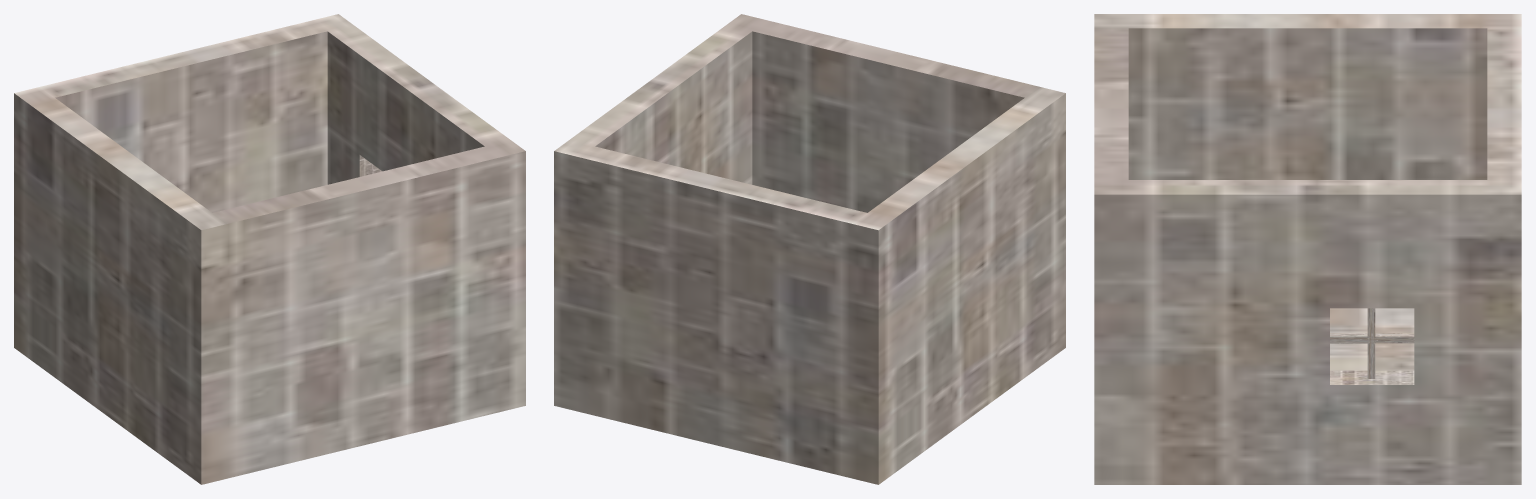
Rendered from Shop1.obj.
3 renders of one model, left to right at view 1: azimuth 30°, elevation 25°; view 2: azimuth 150°, elevation 25°; view 3: azimuth 270°, elevation 25°, orthographic. The views are drawn at different scales.
Visible parts, largest first — view 1: Cube; view 2: Cube; view 3: Cube, Cube.004, Cube.003.
Part boxes in pixels (x1=…): Cube: x1=14, y1=14, x2=525, y2=484; Cube: x1=554, y1=14, x2=1065, y2=484; Cube: x1=1094, y1=14, x2=1521, y2=484; Cube.004: x1=1330, y1=333, x2=1414, y2=343; Cube.003: x1=1367, y1=308, x2=1375, y2=378.
Bounding box in the file's own units: 18.01 × 13.51 × 18.01.
